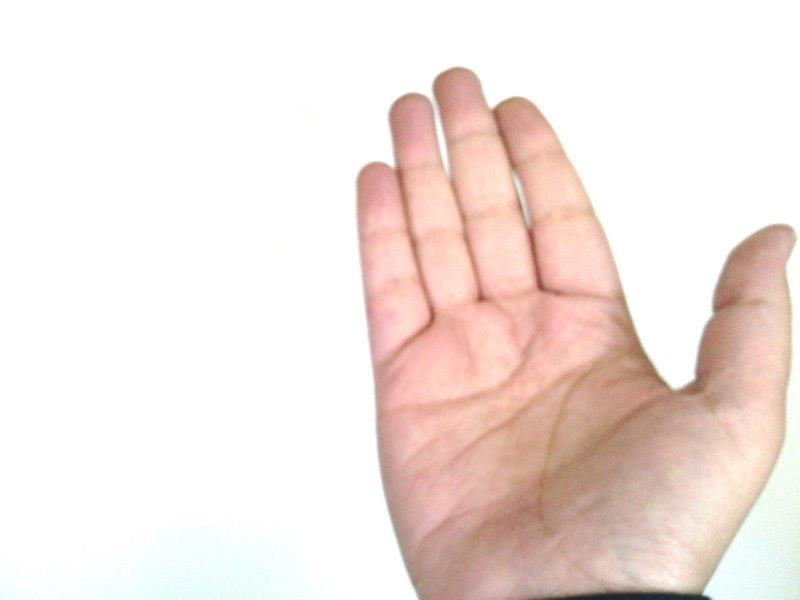hand: (358, 67, 798, 595)
